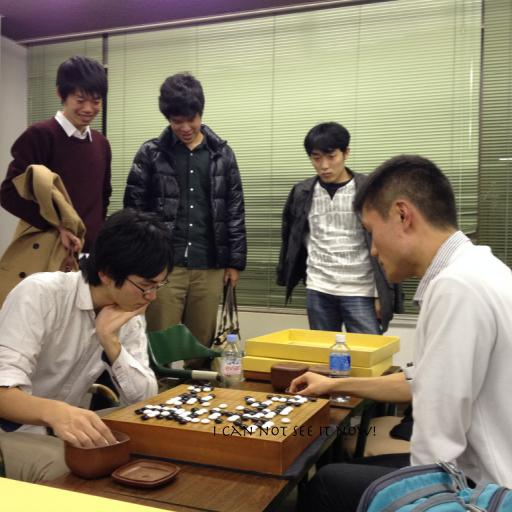Herculanum: (211, 425, 377, 437)
